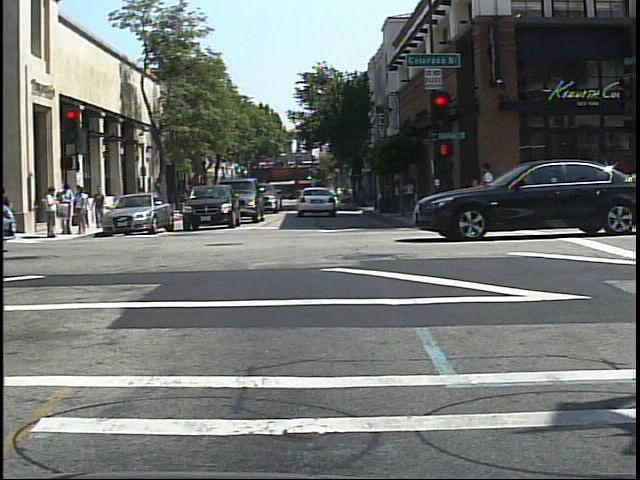person: (77, 184, 93, 229), (136, 183, 151, 214)
